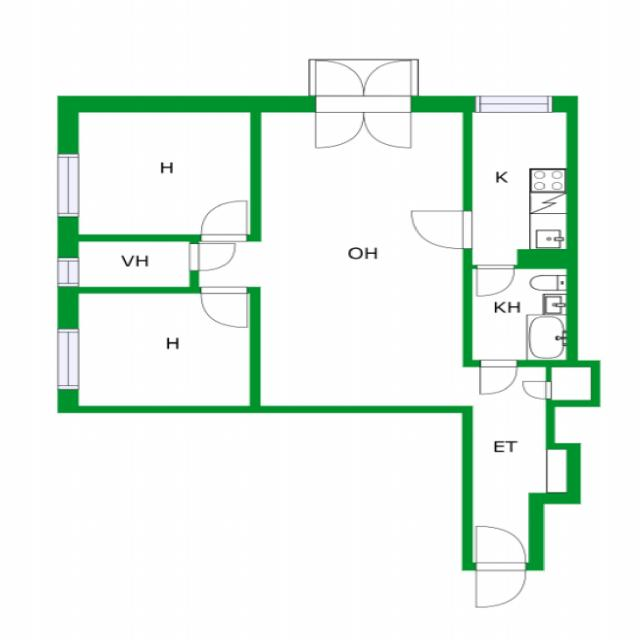door: (315, 61, 364, 112), (315, 96, 363, 148), (363, 96, 411, 148), (364, 61, 411, 112), (412, 211, 472, 248), (476, 526, 524, 570), (476, 563, 524, 607), (200, 287, 247, 328), (201, 201, 246, 242), (480, 359, 516, 394), (477, 264, 514, 297), (189, 244, 235, 270), (522, 381, 552, 399)
